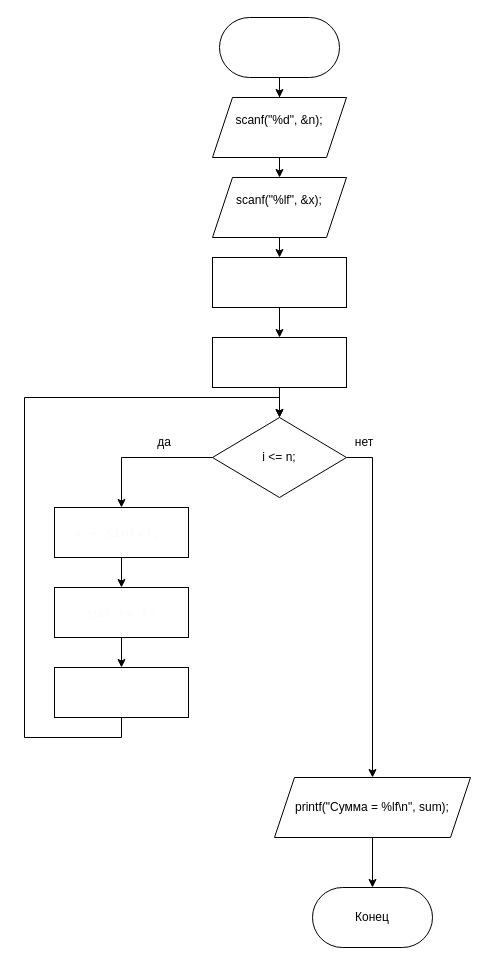
The diagram is 488 pixels wide and 965 high, and some of its shapes have lost their labels. The centre of each missing label's shape, as x and y in pixels:
"i = 1;" goes at point (279, 362).
"i++;" goes at point (121, 692).
"sum = 0.0;" goes at point (279, 282).
"Начало" goes at point (279, 47).
